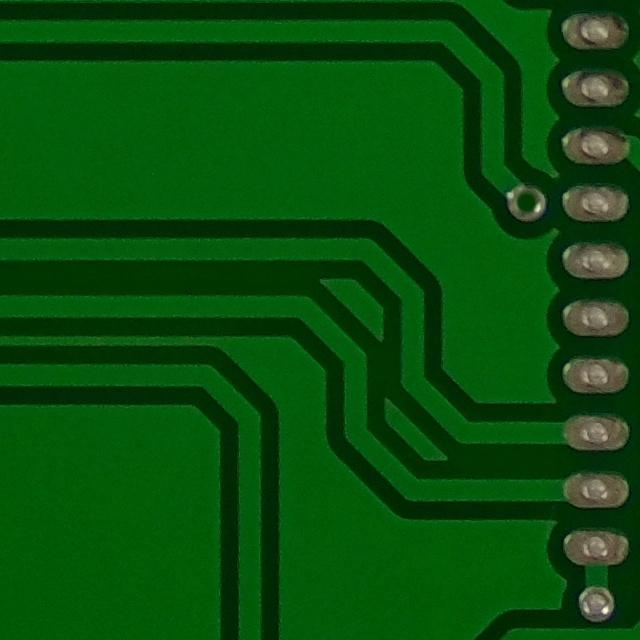missing_hole: (496, 169, 551, 235)
